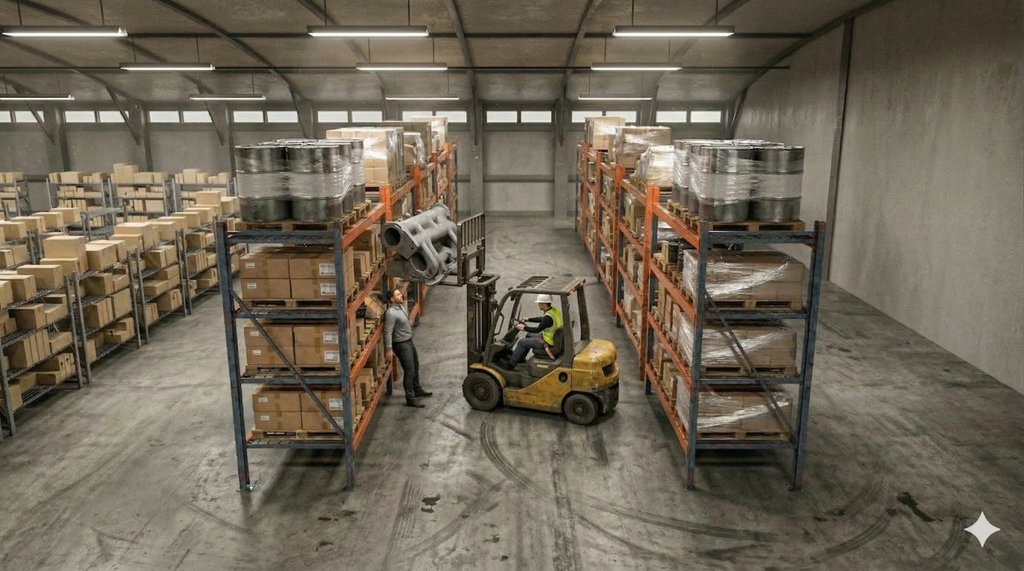forklift: (434, 209, 629, 427)
person: (374, 282, 447, 420), (516, 282, 570, 388)
safety_helmet: (527, 289, 555, 306)
safety_vest: (533, 306, 558, 354)
